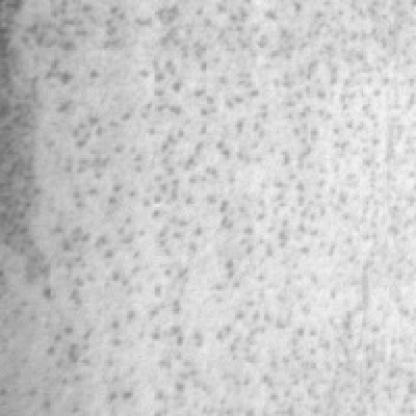pitted_surface: (38, 2, 410, 416), (3, 4, 64, 306)
